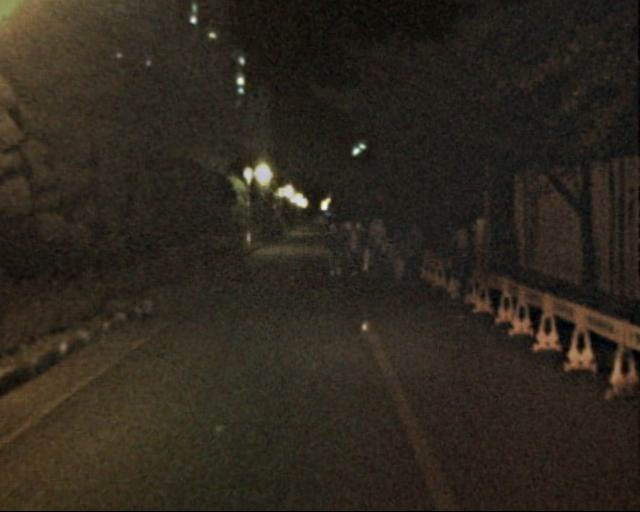person: (439, 223, 479, 321), (363, 212, 390, 277), (402, 219, 428, 282), (320, 218, 343, 275), (388, 227, 411, 283), (342, 219, 363, 271), (356, 223, 375, 269)
